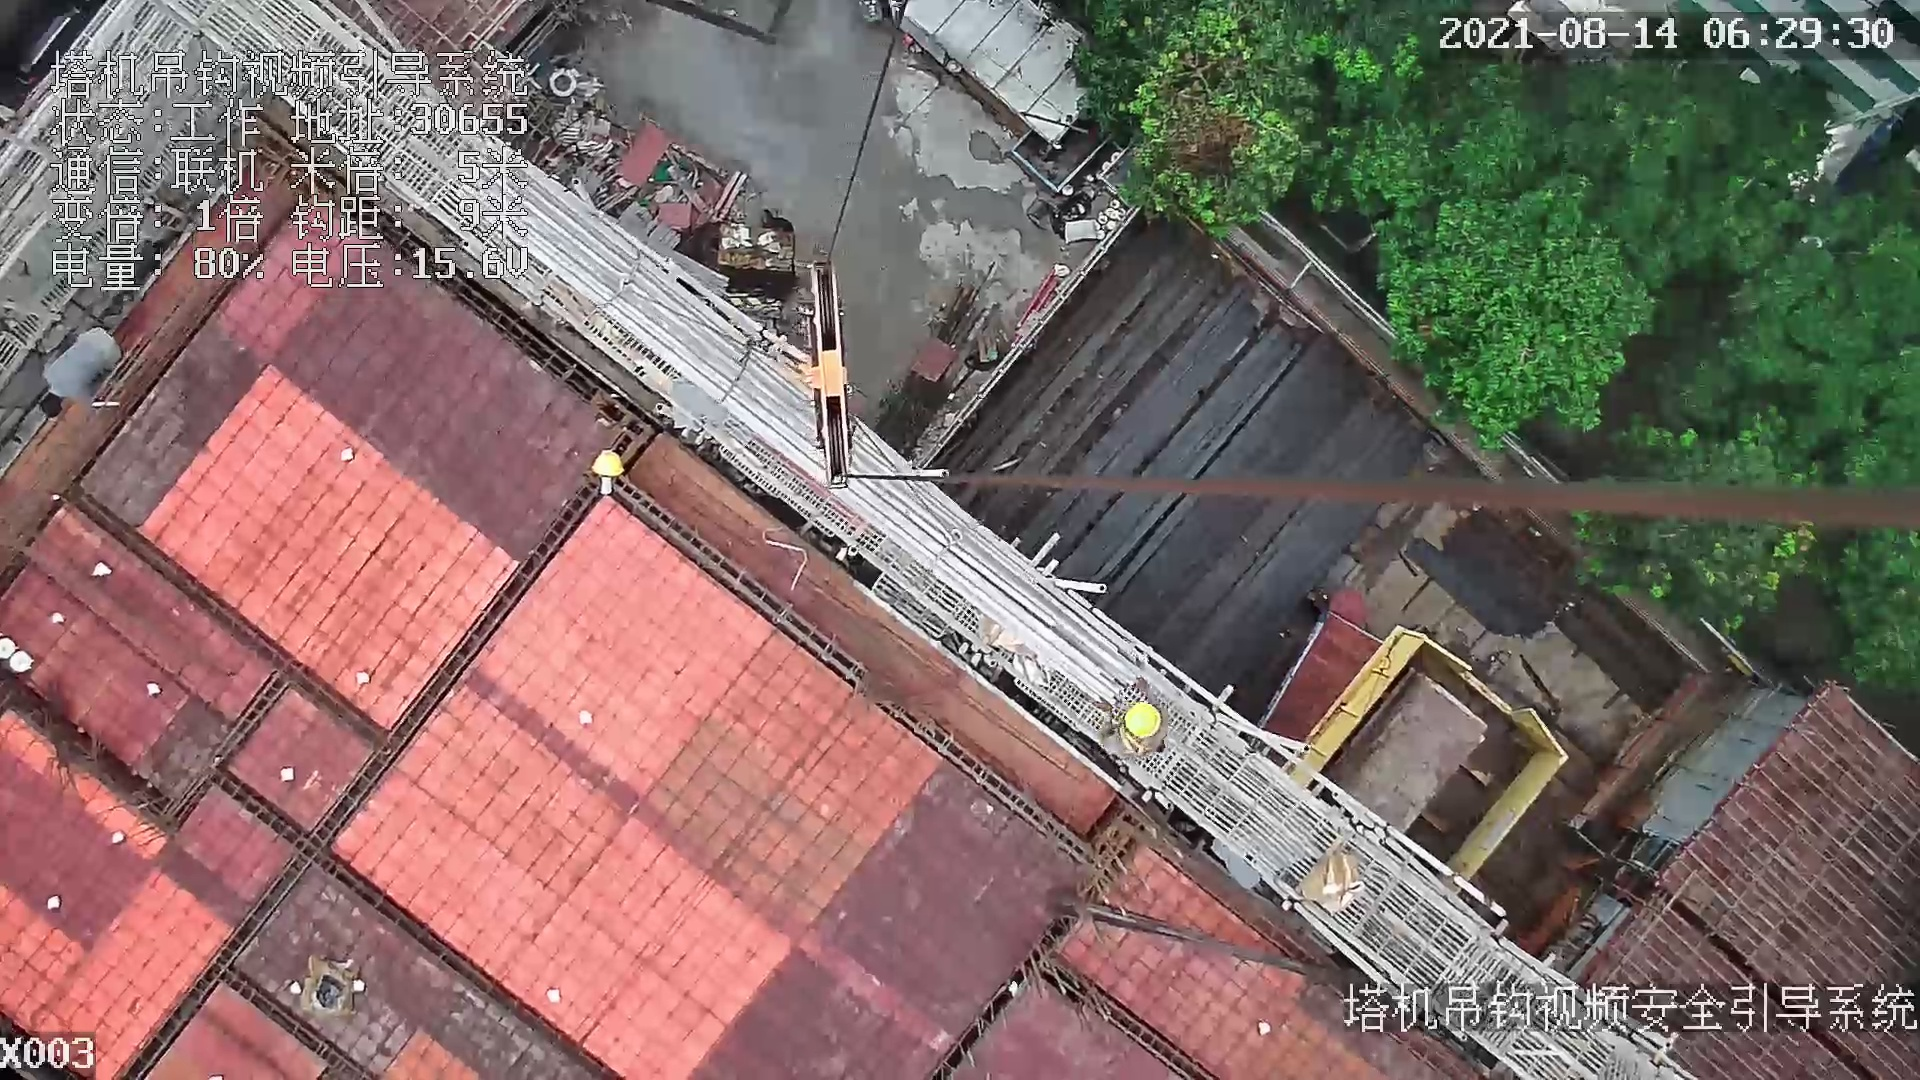helmet: (1122, 704, 1163, 740), (591, 449, 627, 477)
hook: (796, 255, 859, 490)
person: (1113, 683, 1176, 769)
rebar: (954, 228, 1426, 672)
